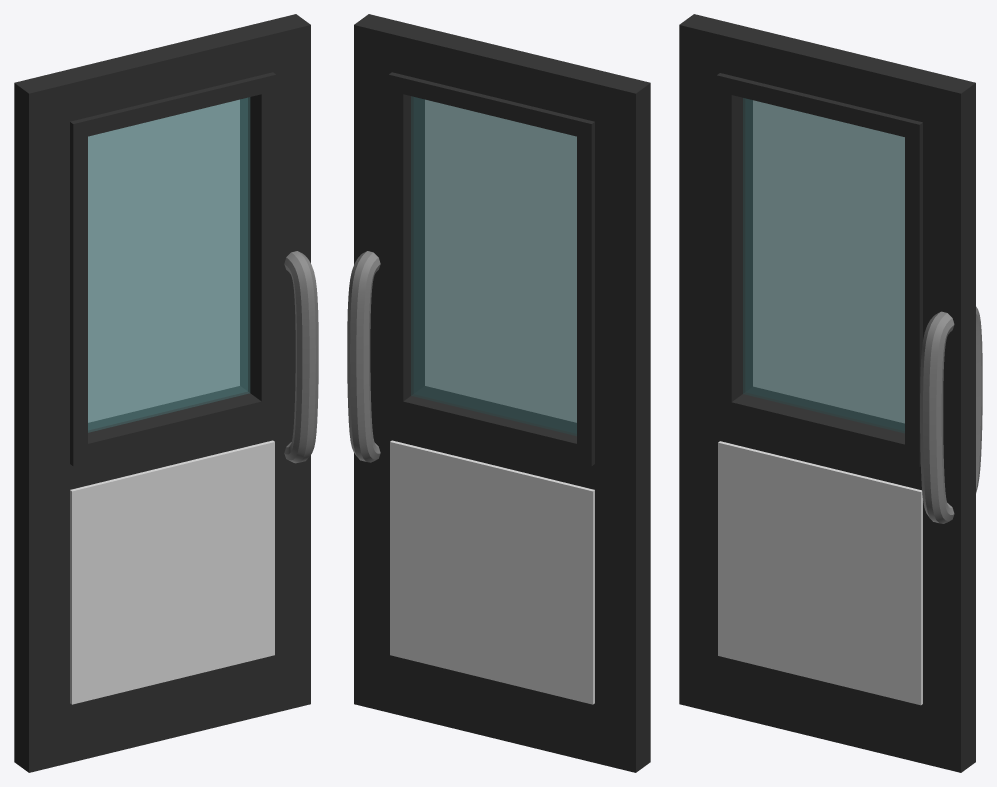
The model's file is Kantine deur.fbx.
3 renders of one model, left to right at view 1: azimuth 30°, elevation 25°; view 2: azimuth 150°, elevation 25°; view 3: azimuth 330°, elevation 25°, orthographic.
Visible parts, largest first — view 1: pPlane17; view 2: pPlane17; view 3: pPlane17.
Part boxes in pixels (x1,y1,x2,y2): pPlane17: [14, 14, 318, 772]; pPlane17: [347, 14, 650, 772]; pPlane17: [679, 14, 982, 772].
Bounding box in the file's own units: 6.61 × 15.22 × 2.06.
